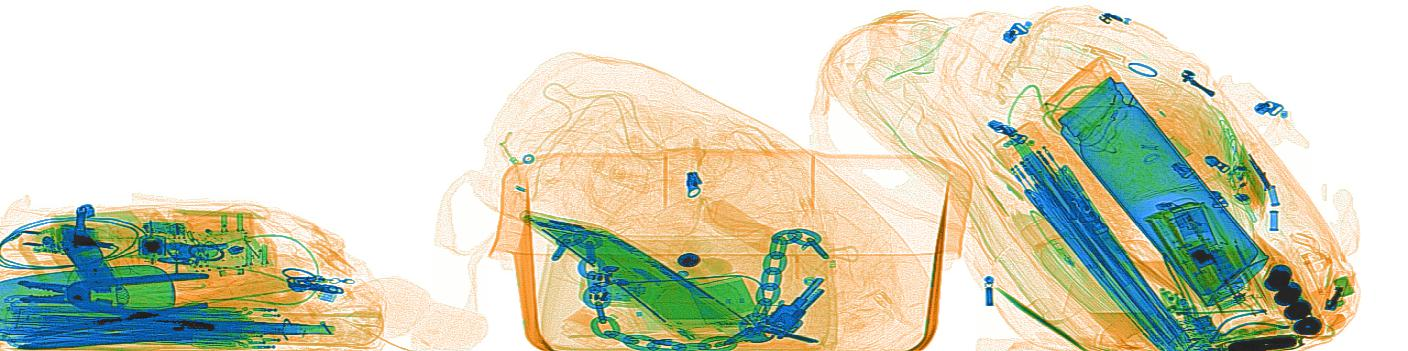battery: (1261, 261, 1324, 337), (1167, 203, 1219, 248), (1204, 248, 1244, 295)
plasticBottleWithaNozzle: (1020, 216, 1161, 345)
